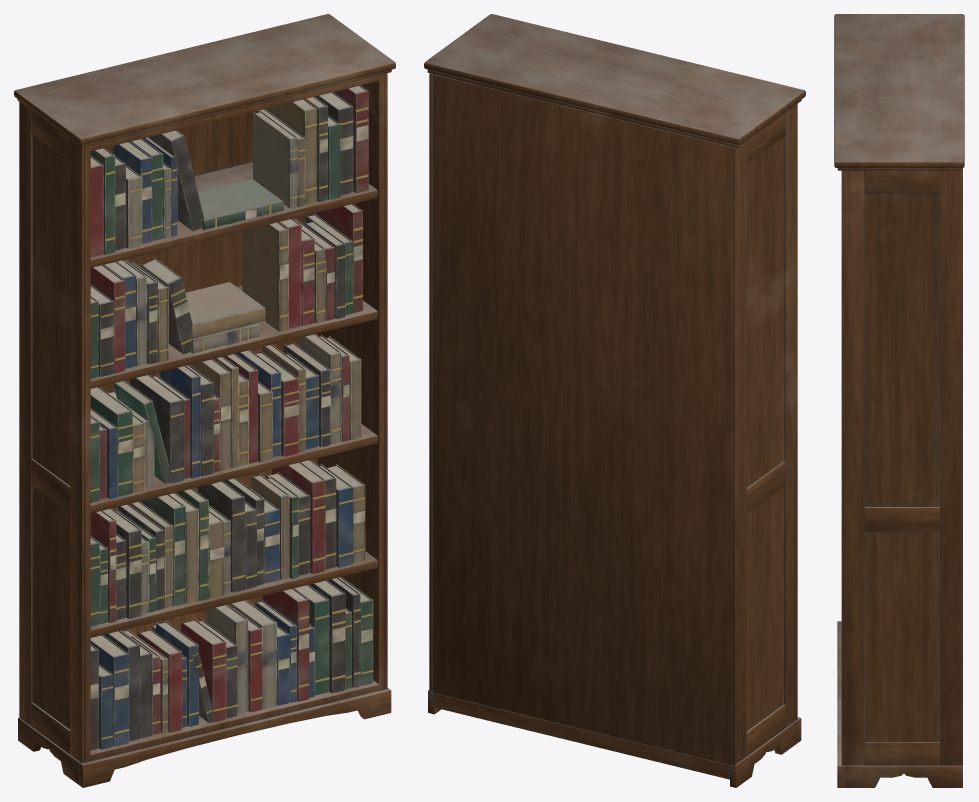
Rendered from estante_livros.glb.
3 views of the same model, side by side, from view 1: azimuth 30°, elevation 25°; view 2: azimuth 150°, elevation 25°; view 3: azimuth 270°, elevation 25° (orthographic). The views are drawn at different scales.
Parts seen in each view (by area): view 1: livros, estante; view 2: estante; view 3: estante.
Part boxes in pixels (left/top/right/bottom): livros: left=90, top=85, right=373, bottom=750; estante: left=14, top=14, right=395, bottom=787; estante: left=424, top=14, right=805, bottom=787; estante: left=834, top=14, right=964, bottom=787.
Bounding box in the file's own units: 0.93 × 1.83 × 0.345.
Materials: 2 (2 with a texture image).
